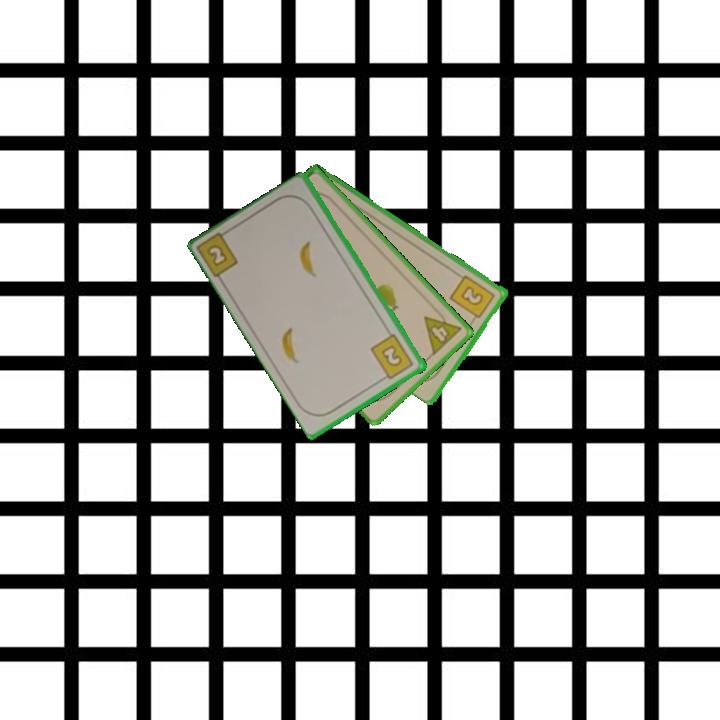2b: (447, 271, 498, 324), (367, 330, 417, 383), (195, 225, 242, 281)
4p: (420, 303, 464, 358)
